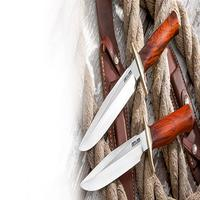knife: (75, 5, 173, 160), (76, 93, 200, 193)
